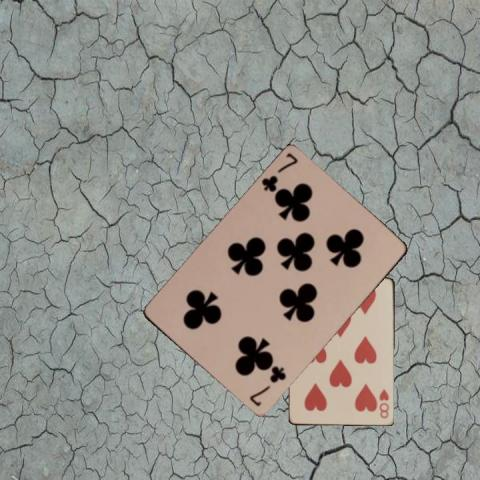7c: (247, 363, 288, 409), (258, 150, 299, 194)
8h: (377, 387, 390, 420)
